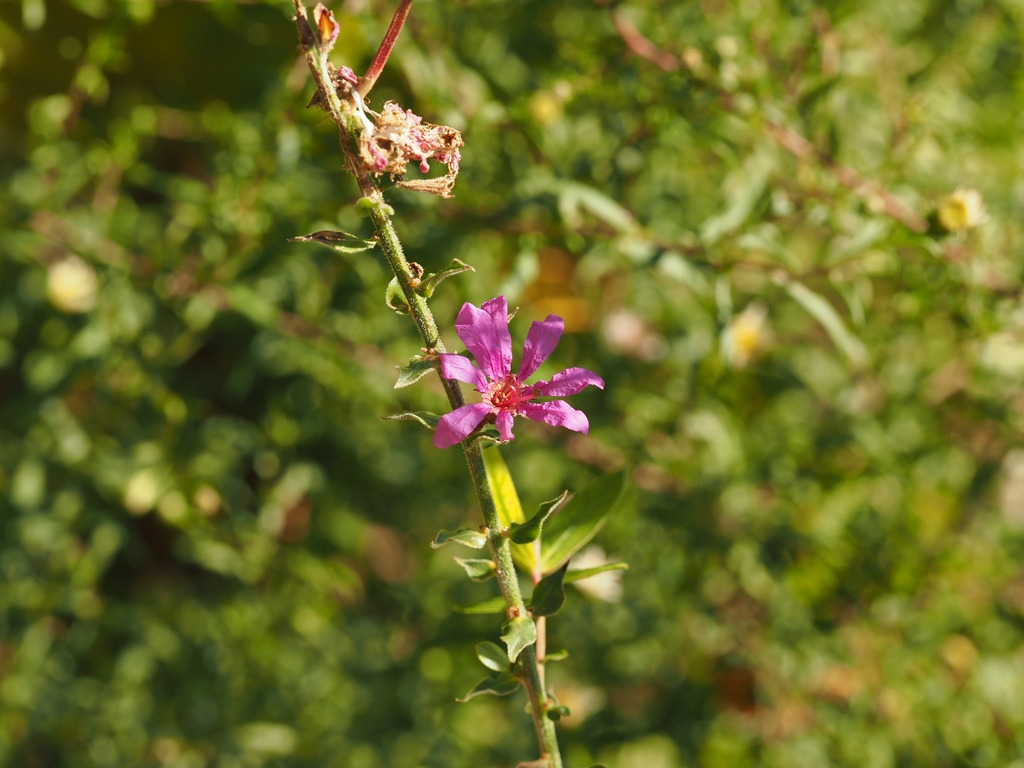purple loosestrife: (395, 272, 631, 481)
